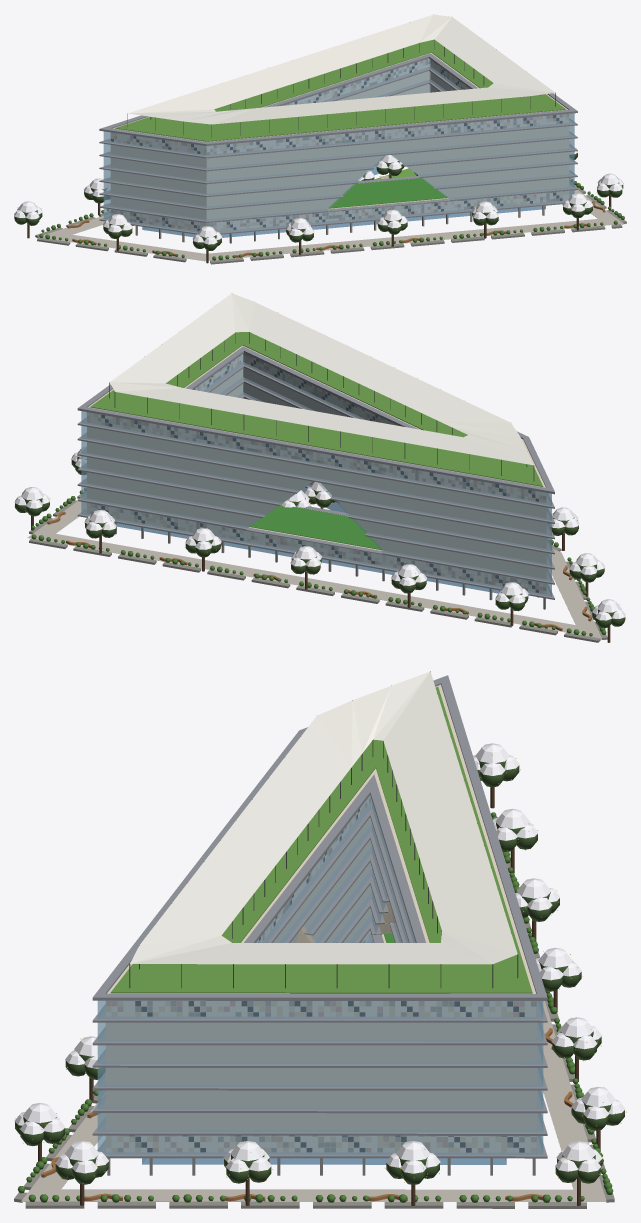
Rendered from block.glb.
3 views of the same model, one above another, from view 1: azimuth 30°, elevation 25°; view 2: azimuth 150°, elevation 25°; view 3: azimuth 270°, elevation 25° (orthographic). The views are drawn at different scales.
Visible parts, largest first — view 1: facade glass (×2), block (×10), metal bands (×13), green roof, marble white, landscape pavement, snow (×8), marble cream, sky garden, marble grey, marble dark, lobby glass (+1 smaller); view 2: facade glass (×2), block (×10), metal bands (×14), green roof, landscape pavement, marble white, snow (×8), marble cream, sky garden, marble grey, marble dark, lobby glass (+2 smaller); view 3: facade glass (×2), block (×8), metal bands (×14), sunshades (×28), green roof, snow (×12), landscape pavement, marble white, marble cream, marble grey, lobby glass, marble dark (+1 smaller).
Part boxes in pixels (<box>): facade glass (×2): <box>103,58,574,232</box>; block (×10): <box>110,52,569,230</box>; metal bands (×13): <box>99,53,577,234</box>; green roof: <box>115,39,565,141</box>; marble white: <box>111,61,569,231</box>; landscape pavement: <box>37,190,623,261</box>; snow (×8): <box>14,173,623,244</box>; marble cream: <box>111,58,569,231</box>; sky garden: <box>328,178,448,208</box>; marble grey: <box>111,59,562,228</box>; marble dark: <box>111,62,562,231</box>; lobby glass: <box>142,165,545,237</box>; facade glass (×2): <box>81,353,551,596</box>; block (×10): <box>87,345,546,593</box>; metal bands (×14): <box>77,346,554,599</box>; green roof: <box>90,332,543,486</box>; landscape pavement: <box>27,501,601,638</box>; marble white: <box>86,354,546,593</box>; snow (×8): <box>14,487,625,620</box>; marble cream: <box>86,356,546,593</box>; sky garden: <box>249,504,383,550</box>; marble grey: <box>86,353,546,590</box>; marble dark: <box>98,359,538,592</box>; lobby glass: <box>117,487,499,593</box>; facade glass (×2): <box>97,795,543,1154</box>; block (×8): <box>105,685,536,1151</box>; metal bands (×14): <box>92,675,547,1158</box>; sunshades (×28): <box>130,671,517,963</box>; green roof: <box>110,687,532,993</box>; snow (×12): <box>14,743,625,1173</box>; landscape pavement: <box>21,1001,606,1201</box>; marble white: <box>106,795,536,1152</box>; marble cream: <box>106,798,536,1152</box>; marble grey: <box>117,797,536,1152</box>; lobby glass: <box>142,1158,506,1164</box>; marble dark: <box>130,809,524,1152</box>.
Size of the model in its own units: 136 by 31.4 by 83.53.
